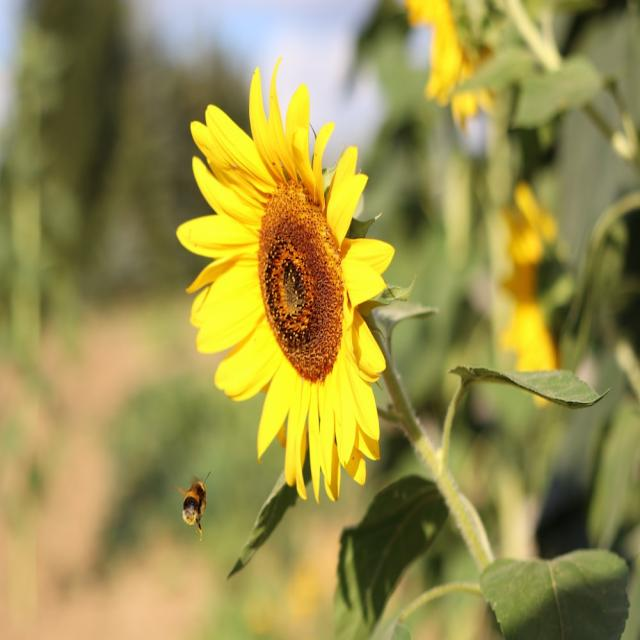sunflower: (488, 176, 582, 406), (409, 0, 510, 125), (444, 77, 506, 166)
